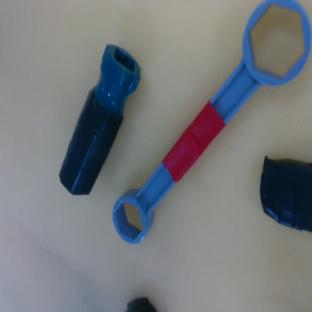part_1_bad: (260, 156, 312, 232)
part_2_bad: (51, 42, 148, 201)
part_3_bad: (125, 297, 156, 311)
